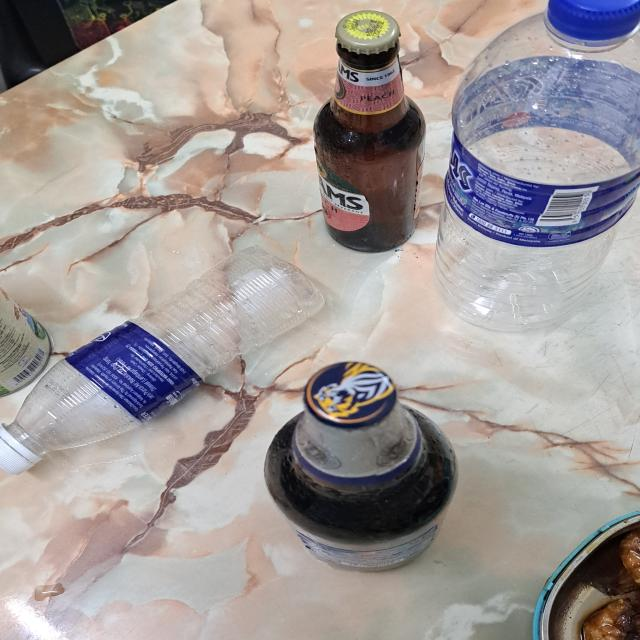can: (0, 291, 54, 398)
glass bottle: (264, 360, 461, 573), (316, 8, 424, 253)
plastic bottle: (0, 248, 336, 456), (434, 0, 640, 333)
plastic bottle cap: (0, 427, 40, 474)
